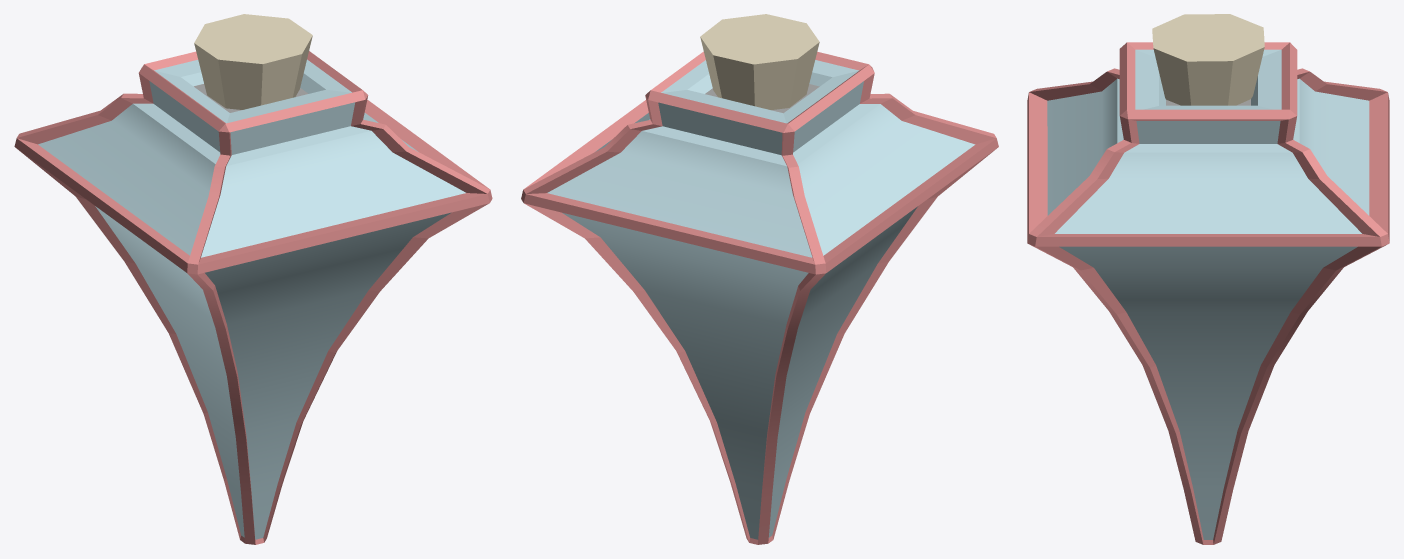
The model's file is Geo_Bottle_B.fbx.
The picture shows the model from 3 angles, left to right: view 1: azimuth 30°, elevation 25°; view 2: azimuth 150°, elevation 25°; view 3: azimuth 270°, elevation 25°; orthographic projection.
Parts seen in each view (by area): view 1: Glass_GEO, Cork_GEO; view 2: Glass_GEO, Cork_GEO; view 3: Glass_GEO, Cork_GEO.
Boxes of the visible parts, box(x1,y1,x2,y2) form: Glass_GEO: box(14, 51, 492, 544); Cork_GEO: box(194, 14, 312, 109); Glass_GEO: box(521, 51, 998, 544); Cork_GEO: box(700, 14, 819, 110); Glass_GEO: box(1027, 42, 1389, 544); Cork_GEO: box(1152, 14, 1264, 105).
Bounding box in the file's own units: 22.37 × 35.02 × 22.9.
